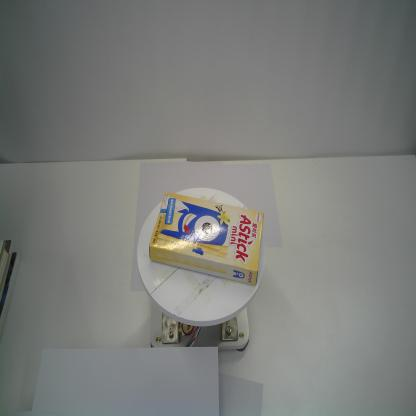Dessert: (148, 189, 266, 288)
